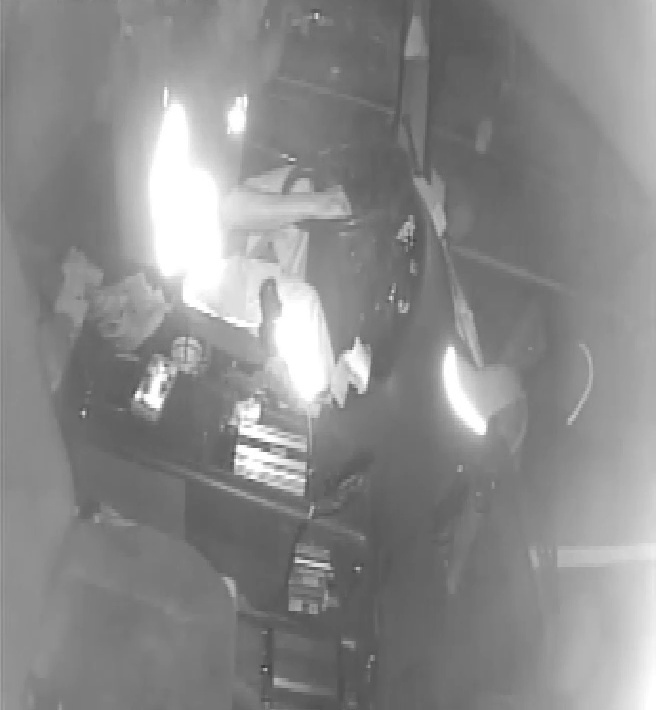cellphone: (128, 351, 180, 424)
